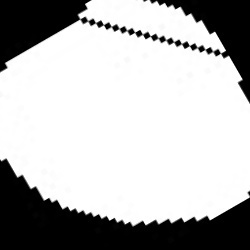spot: (2, 1, 249, 226)
